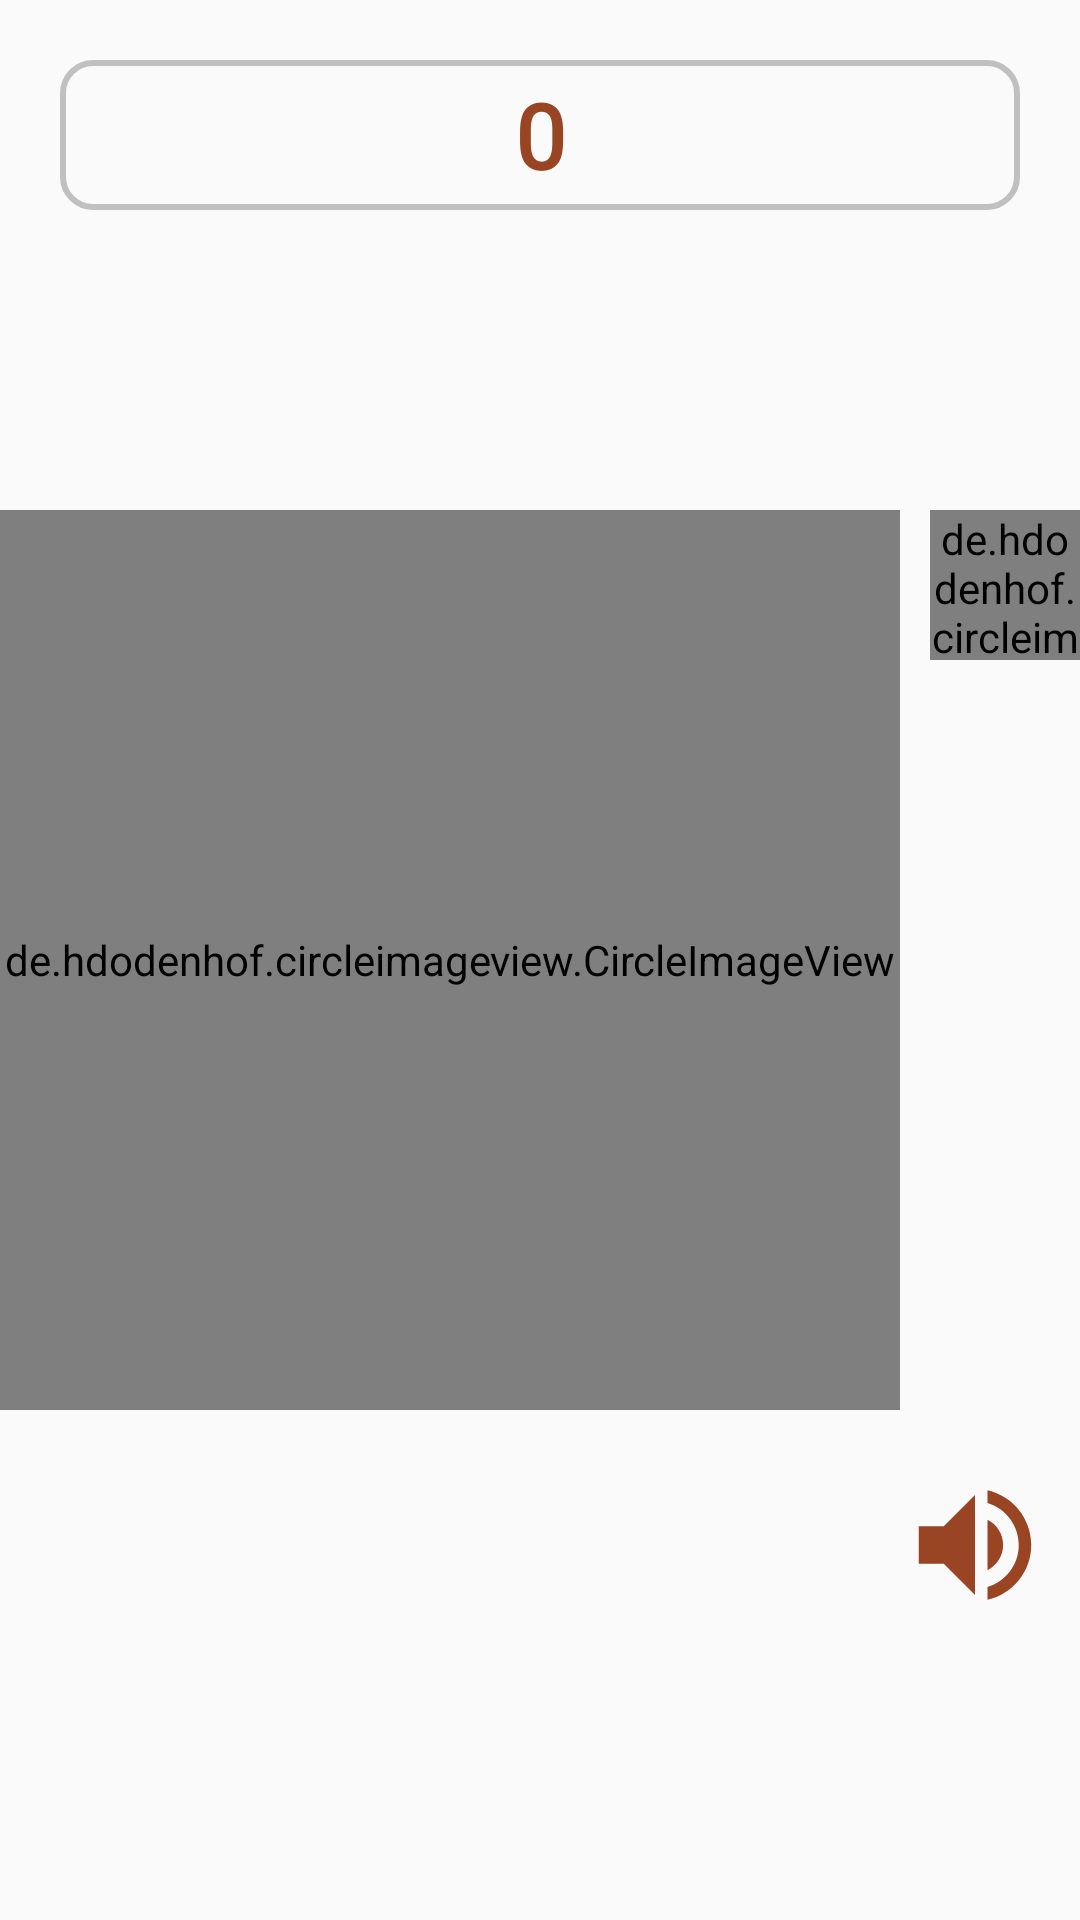

Where to tap for icons on this 1080 × 1920 app screen, as (x=x, y=y):
volume up: (x=975, y=1545)
